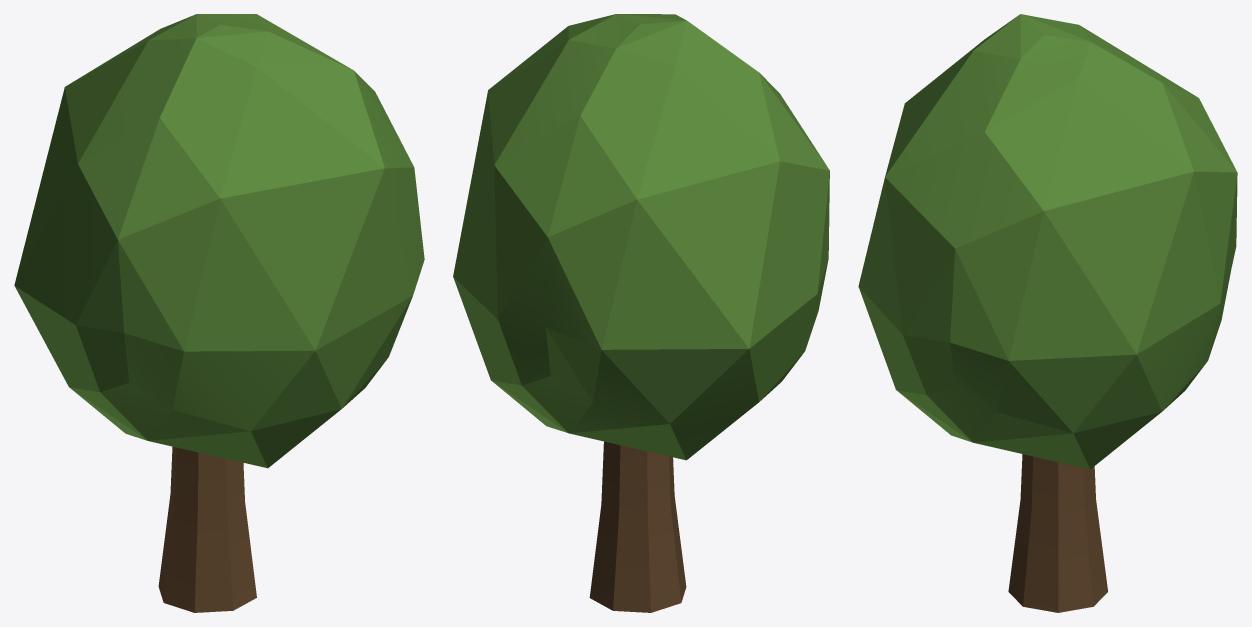
Rendered from Tree0.fbx.
3 views of the same model, side by side, from view 1: azimuth 30°, elevation 25°; view 2: azimuth 150°, elevation 25°; view 3: azimuth 270°, elevation 25° (orthographic). The views are drawn at different scales.
Parts seen in each view (by area): view 1: Tree; view 2: Tree; view 3: Tree.
Boxes of the visible parts, bbox=[...] form: Tree: bbox=[14, 14, 424, 612]; Tree: bbox=[453, 14, 829, 612]; Tree: bbox=[858, 14, 1237, 612].
Size of the model in its own units: 335 by 547 by 333.
